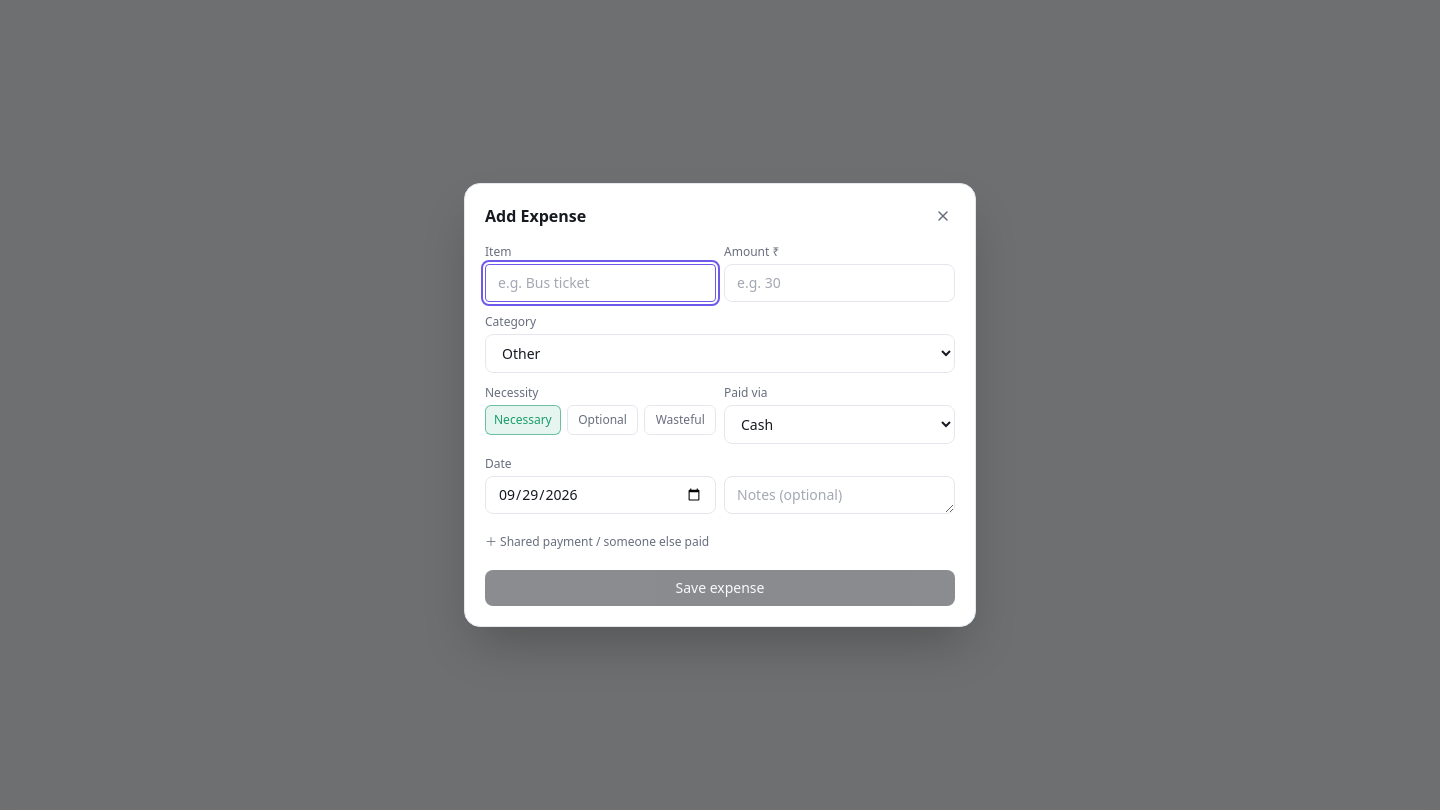
Scenario: arrangement previews › Someone else: shows total as the share and the payer field
Type "Dinner" into the field labelled "Item" at (600, 283), box x1=485 y1=264 x2=716 y2=302
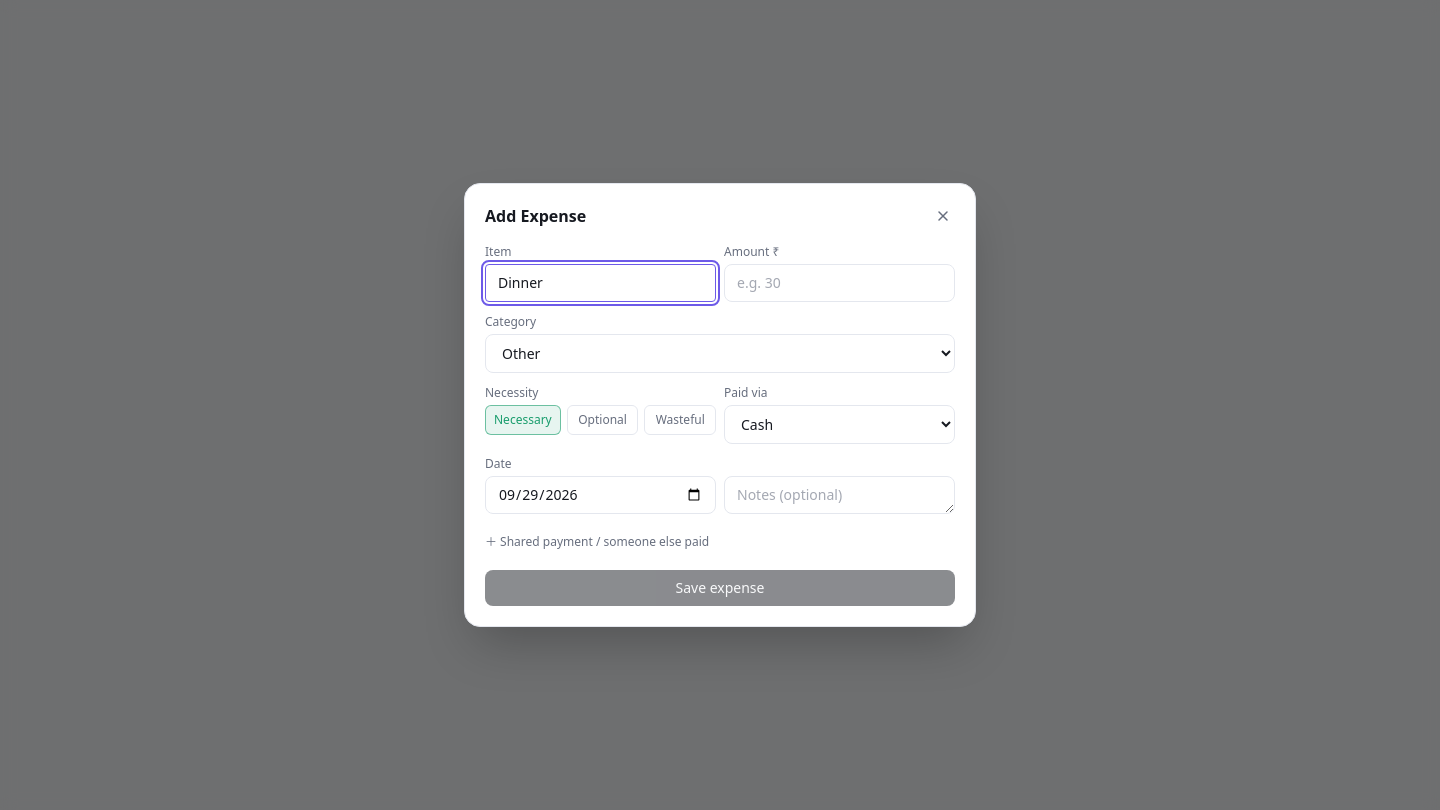
Type "500" into the field labelled "Amount ₹" at (840, 283), box x1=724 y1=264 x2=955 y2=302
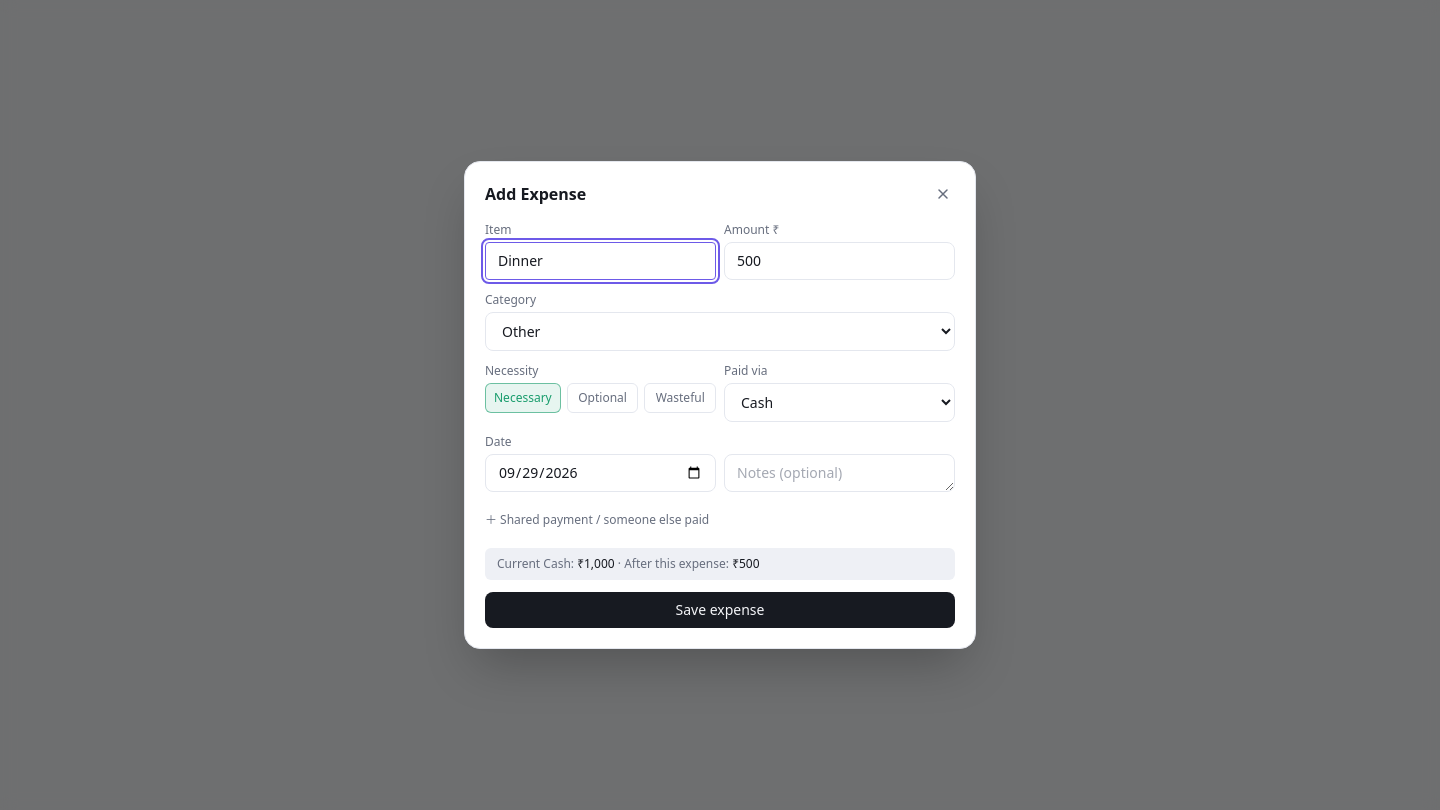
Click the button "＋ Shared payment / someone else paid" at (597, 520), box x1=485 y1=504 x2=709 y2=536
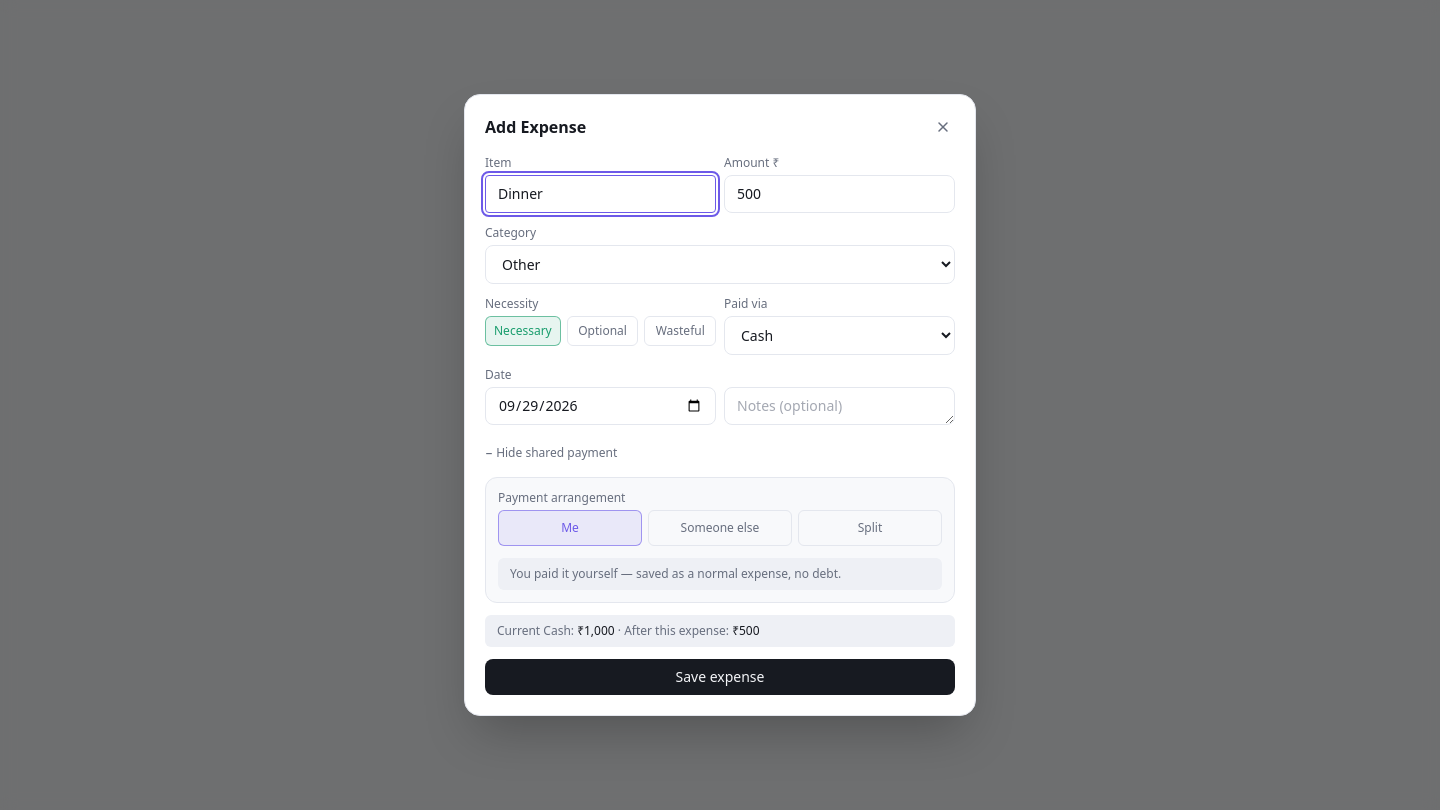
Click the button "Someone else" at (720, 528), box x1=648 y1=510 x2=792 y2=546
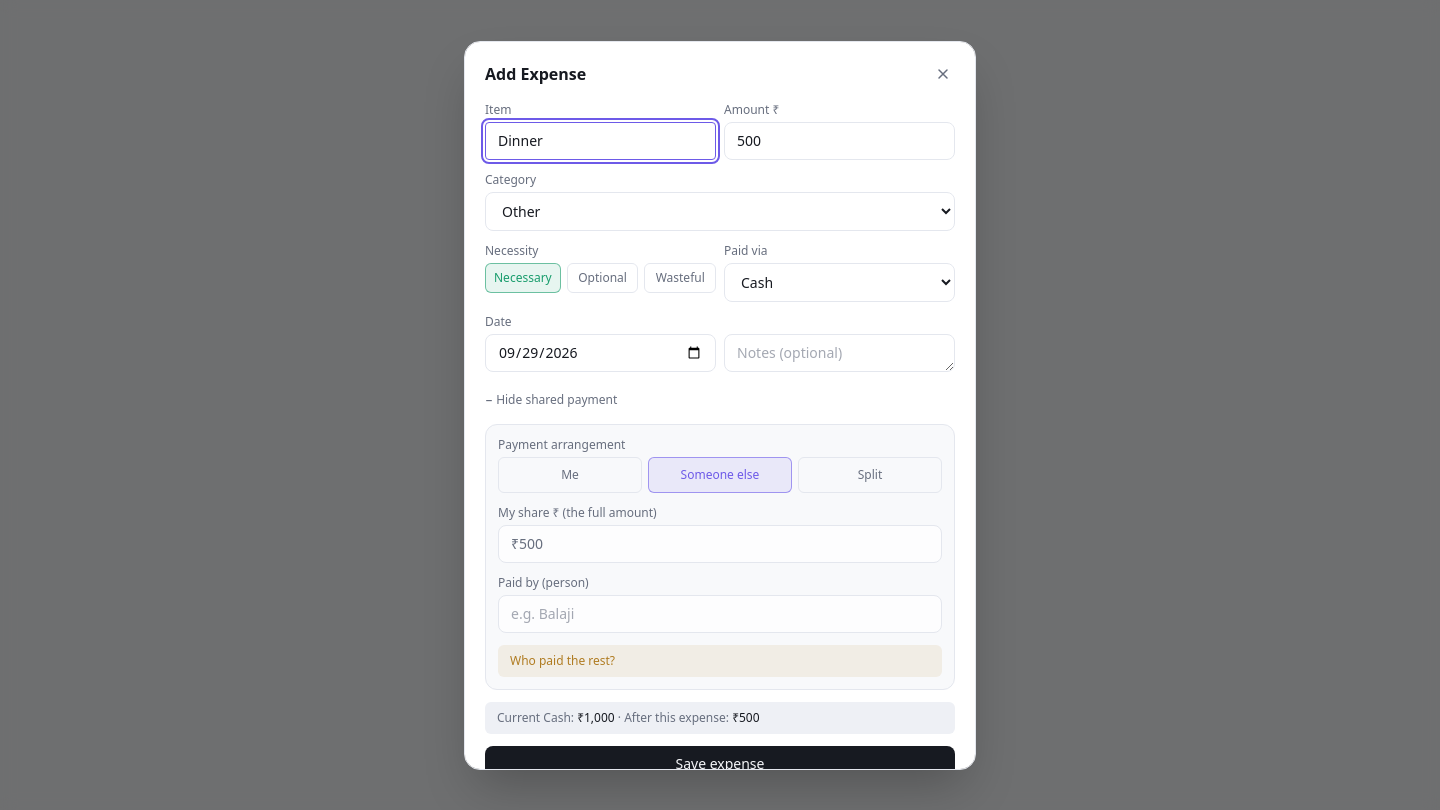
Check: the text "₹500" below "My share ₹" is shown, box x1=511 y1=534 x2=543 y2=552
Check: the field labelled "Paid by (person)" is shown, box x1=498 y1=594 x2=942 y2=632
